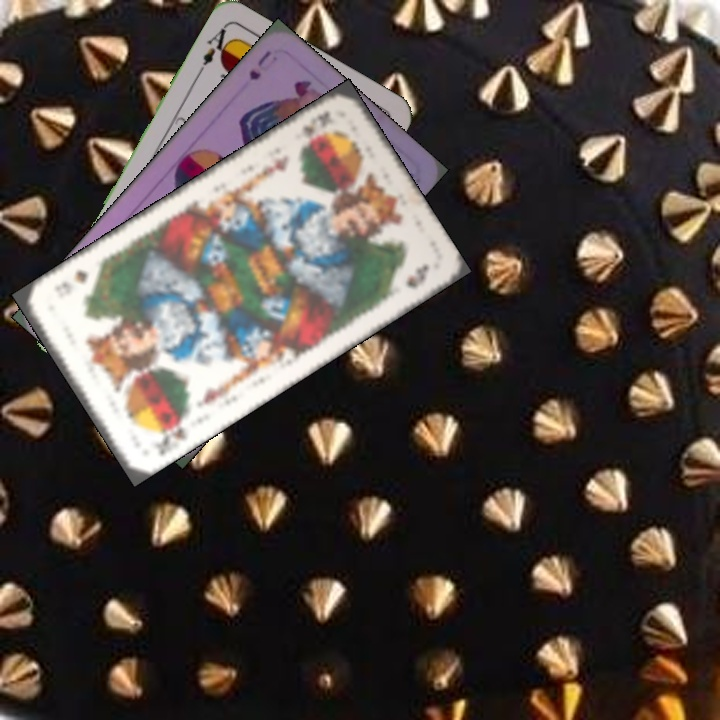EA: (194, 22, 235, 77)
SK: (152, 413, 190, 459), (298, 108, 336, 139)
SU: (245, 46, 274, 84)
